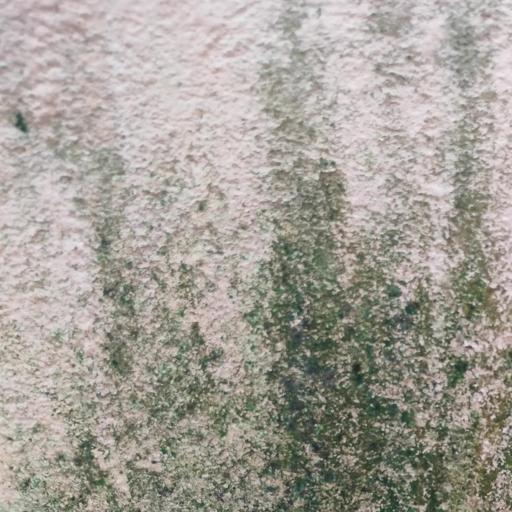algae: (93, 78, 512, 512)
